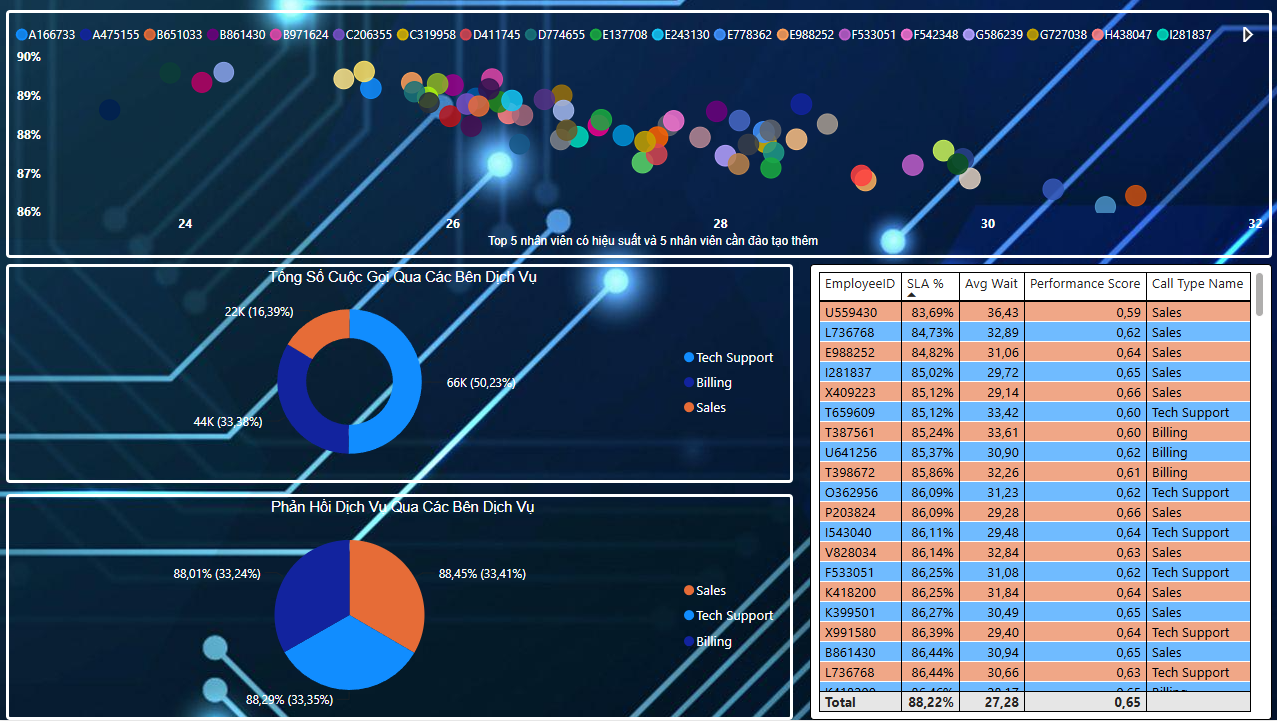

What the dashboard file says about the page in this screenshot:
{"tool":"powerbi","page":{"name":"Page 2","canvas":[1280,720],"ordinal":1},"visuals":[{"type":"scatterChart","fields":{"X":["CCA.Rep Avg Wait"],"Y":["CCA.Rep SLA %"],"Size":["CCA.Rep Calls"],"Series":["CCA.EmployeeID"]},"box":[6.9,10.4,1266.2,247.5],"z":0},{"type":"tableEx","fields":{"Values":["CCA.EmployeeID","CCA.Rep SLA %","CCA.Rep Avg Wait","CCA.Performance Score","CCA.Call Type Name"]},"box":[810.8,263.9,462.3,456.3],"z":1000},{"type":"donutChart","title":"Tổng Số Cuộc Gọi  Qua Các Bên Dịch Vụ","fields":{"Category":["CCA.Call Type Name"],"Y":["CCA.Total Calls"]},"box":[6.9,263.9,787.5,219.1],"z":2000},{"type":"pieChart","title":"Phản Hồi Dịch Vụ  Qua Các Bên Dịch Vụ","fields":{"Category":["CCA.Call Type Name"],"Y":["CCA.Rep SLA %"]},"box":[6.9,494.2,787.5,226],"z":3000}]}

Visuals, with their boxes in screenshot pixels (x1, y1, x2, y2), scaled from the page's 1280x720 canvas onto the 1277x721 screenshot:
scatterChart - CCA.Rep Avg Wait x CCA.Rep SLA %: {"left": 7, "top": 10, "right": 1270, "bottom": 258}
tableEx - CCA.EmployeeID x CCA.Rep SLA %: {"left": 809, "top": 264, "right": 1270, "bottom": 720}
"Tổng Số Cuộc Gọi  Qua Các Bên Dịch Vụ" donutChart: {"left": 7, "top": 264, "right": 793, "bottom": 484}
"Phản Hồi Dịch Vụ  Qua Các Bên Dịch Vụ" pieChart: {"left": 7, "top": 495, "right": 793, "bottom": 720}
